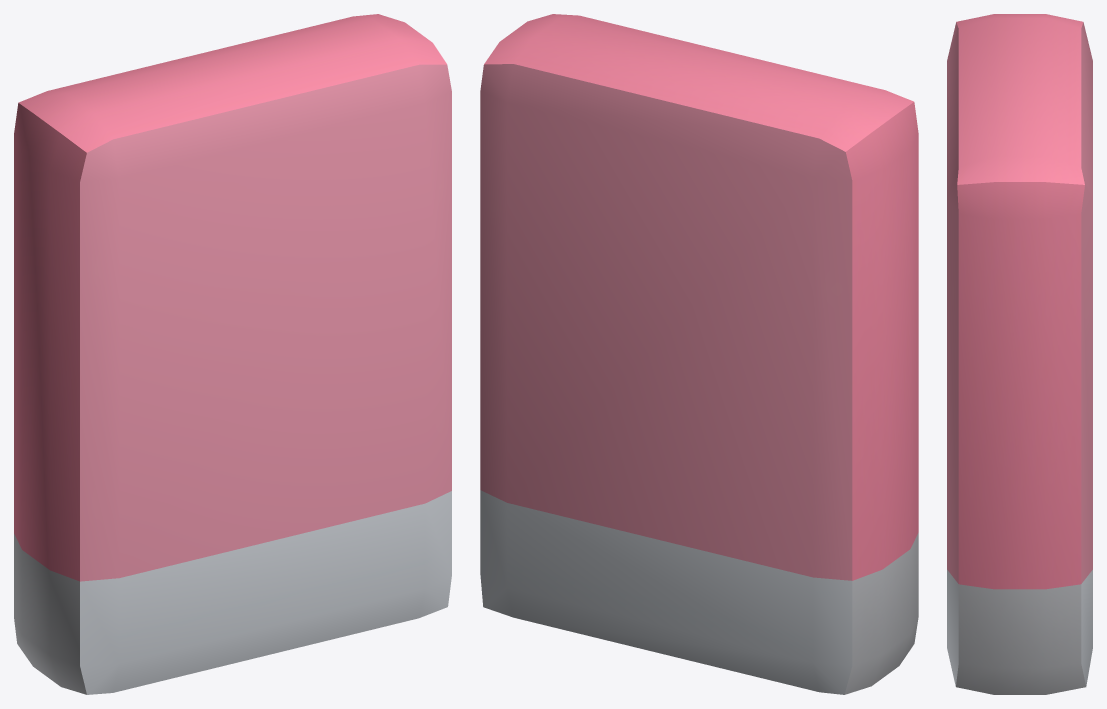
The model's file is SM_Eraser.fbx.
The picture shows the model from 3 angles, left to right: view 1: azimuth 30°, elevation 25°; view 2: azimuth 150°, elevation 25°; view 3: azimuth 270°, elevation 25°; orthographic projection. The views are drawn at different scales.
Parts seen in each view (by area): view 1: SM_Eraser; view 2: SM_Eraser; view 3: SM_Eraser.
Part boxes in pixels (box(x1,y1,x2,y2)): SM_Eraser: box(14, 14, 451, 694); SM_Eraser: box(480, 14, 918, 694); SM_Eraser: box(947, 14, 1092, 694).
Bounding box in the file's own units: 17.32 × 24.22 × 6.
